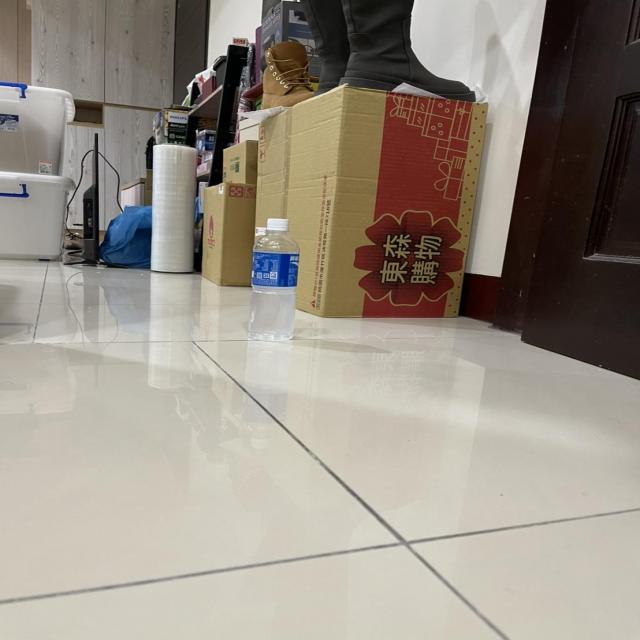bottle: (248, 223, 307, 343)
